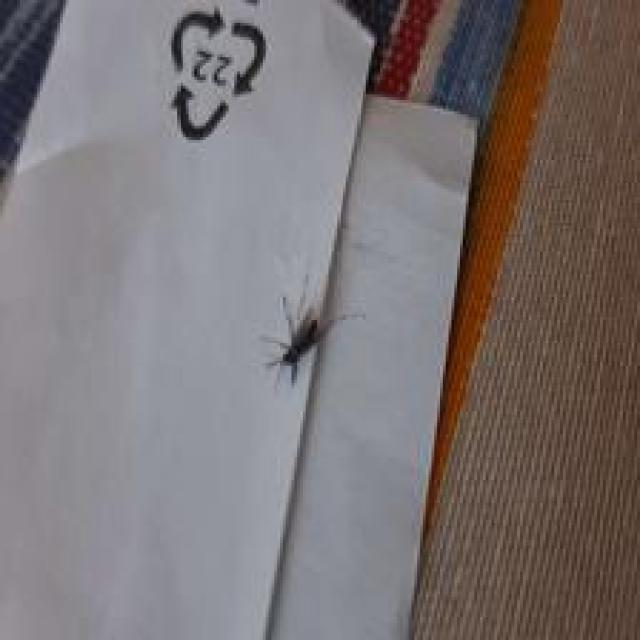Aedes albopictus: (260, 279, 366, 387)
